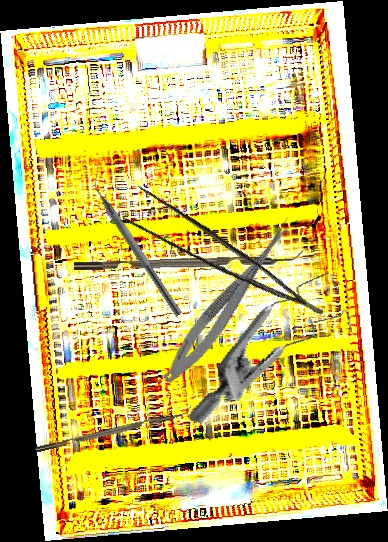Chopper: (83, 169, 192, 318), (33, 403, 194, 453), (73, 247, 304, 270)
Micro Scissor: (156, 209, 300, 391)
Speculum: (186, 246, 367, 458)
Tissue Forceps: (112, 176, 325, 346)
